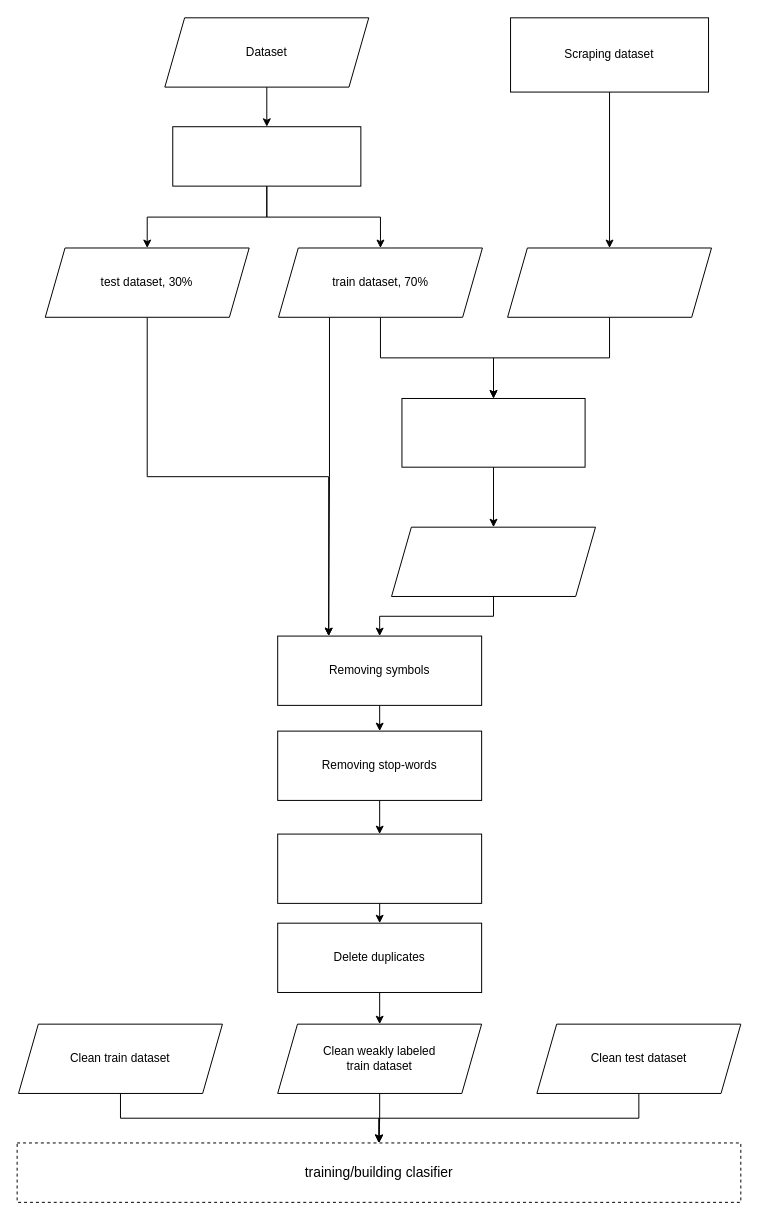
This 758x1220 diagram has some shape labels left out. The box of each missing label's shape, as (x1, y1, x2, y2) in pixels:
Case-folding: (277, 833, 482, 903)
Label modeling: (401, 397, 585, 467)
scraped dataset: (507, 247, 712, 317)
Split dataset: (172, 126, 361, 186)
weakly labeled train data: (391, 526, 595, 596)
